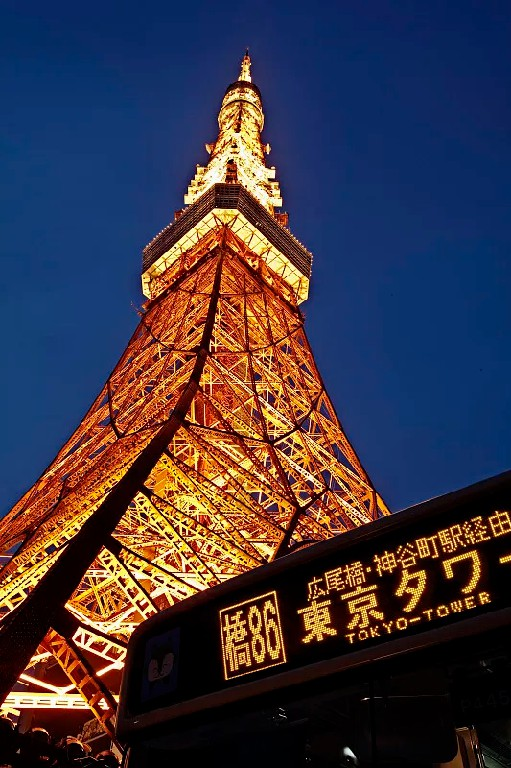Tokyo: (1, 39, 396, 768)
